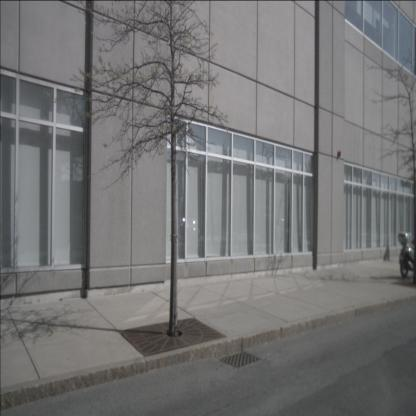vehicle-motorcycle: (398, 231, 415, 279)
